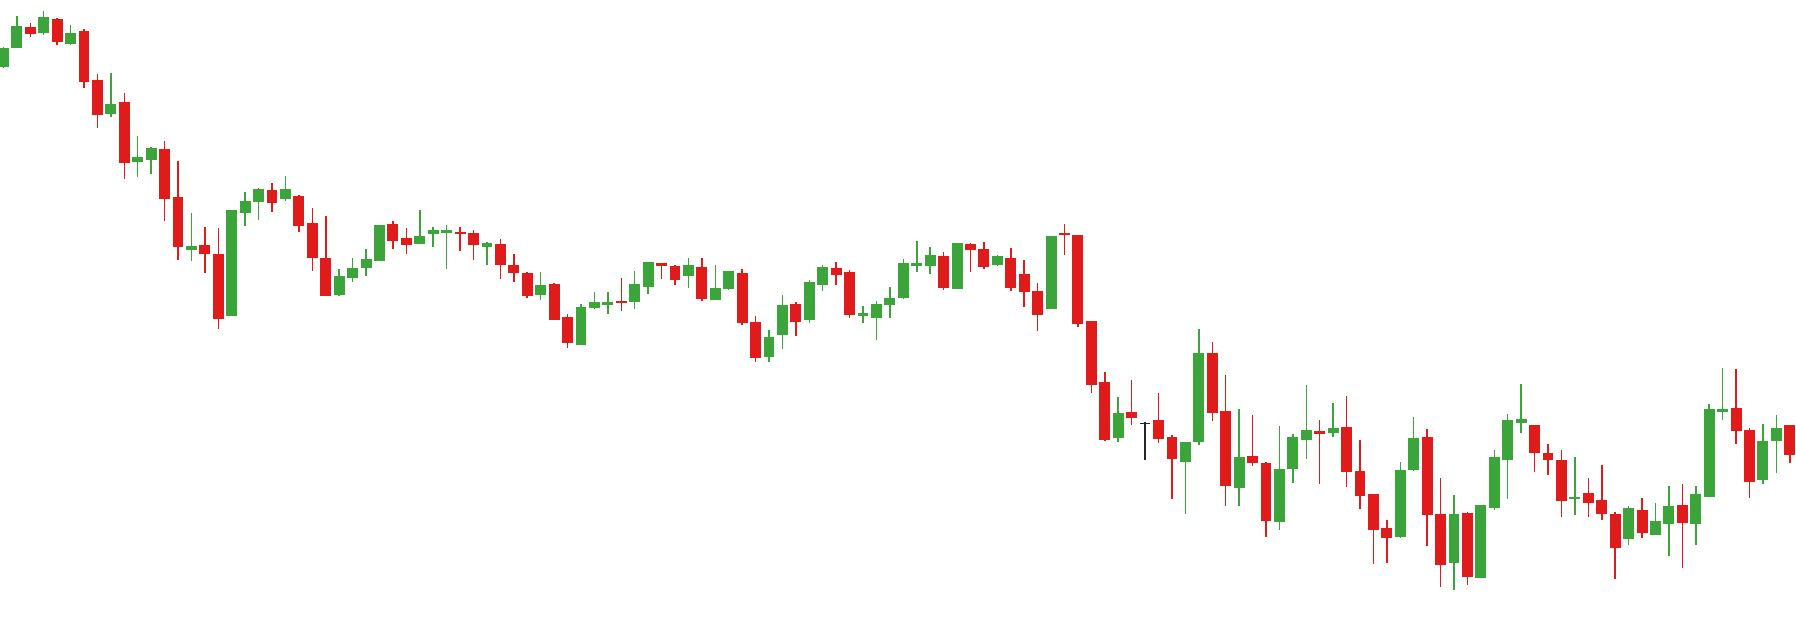buy: (1366, 465, 1463, 592)
sell: (950, 228, 1086, 285)
